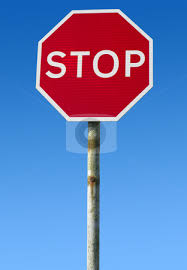stop_sign: (37, 10, 155, 122)
